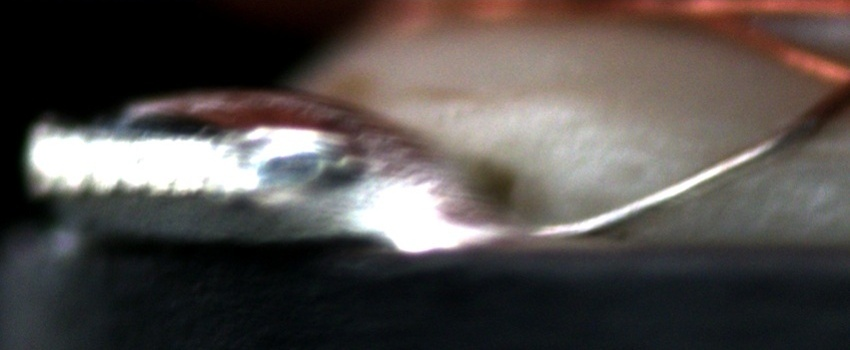DL: (709, 125, 849, 175)
